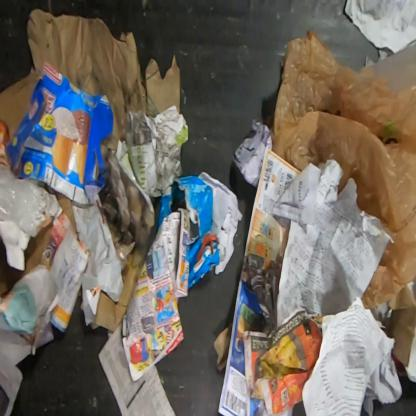cardboard: (5, 60, 114, 206), (0, 69, 39, 140), (174, 175, 214, 243), (24, 216, 55, 275), (94, 291, 116, 332)
soft_plastic: (269, 29, 415, 312), (0, 165, 50, 238)
